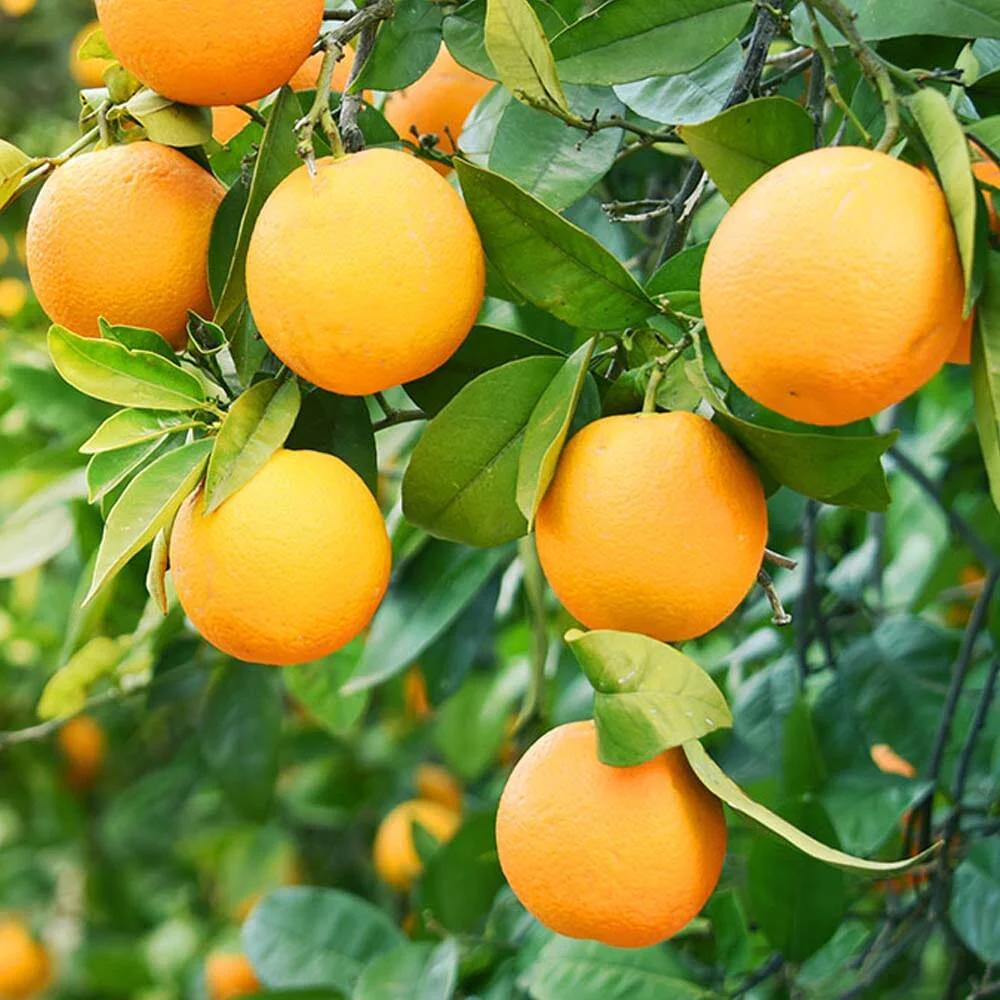non-mango: (33, 7, 958, 968)
